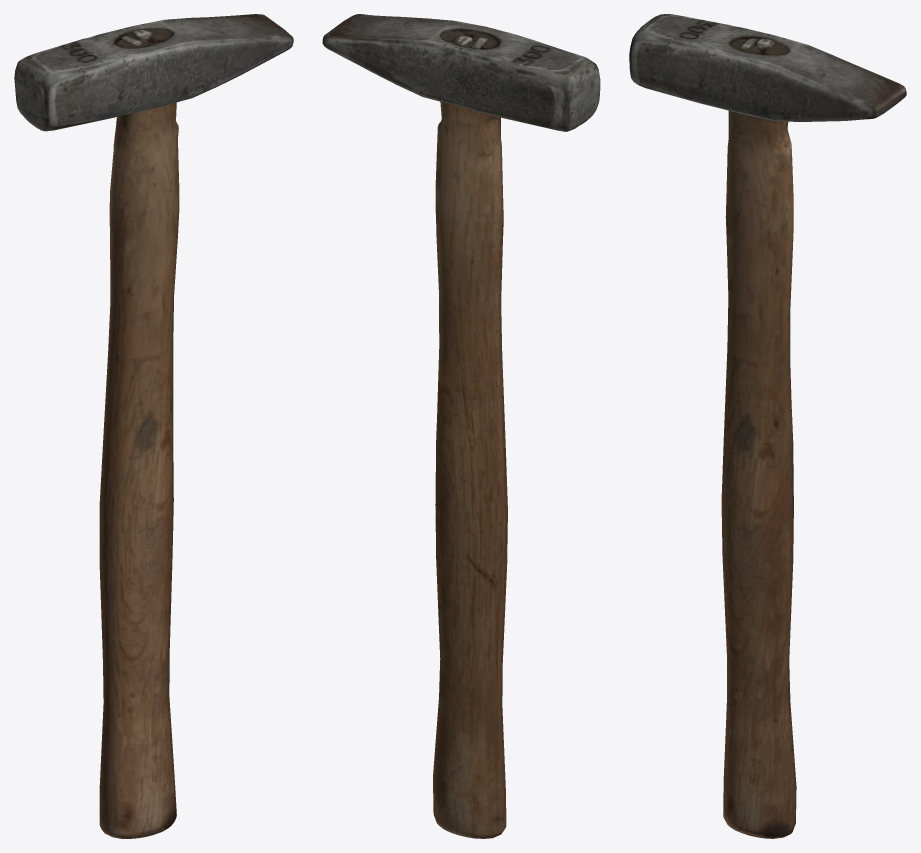
Rendered from hammer.glb.
The picture shows the model from 3 angles, left to right: view 1: azimuth 30°, elevation 25°; view 2: azimuth 150°, elevation 25°; view 3: azimuth 330°, elevation 25°; orthographic projection.
Parts seen in each view (by area): view 1: cross_pein_hammer; view 2: cross_pein_hammer; view 3: cross_pein_hammer.
Part boxes in pixels (x1,y1,x2,y2): cross_pein_hammer: (14,14,293,838); cross_pein_hammer: (322,14,600,838); cross_pein_hammer: (629,14,906,838).
Bounding box in the file's own units: 0.099 × 0.3002 × 0.0243.
Materials: 1 (1 with a texture image).
